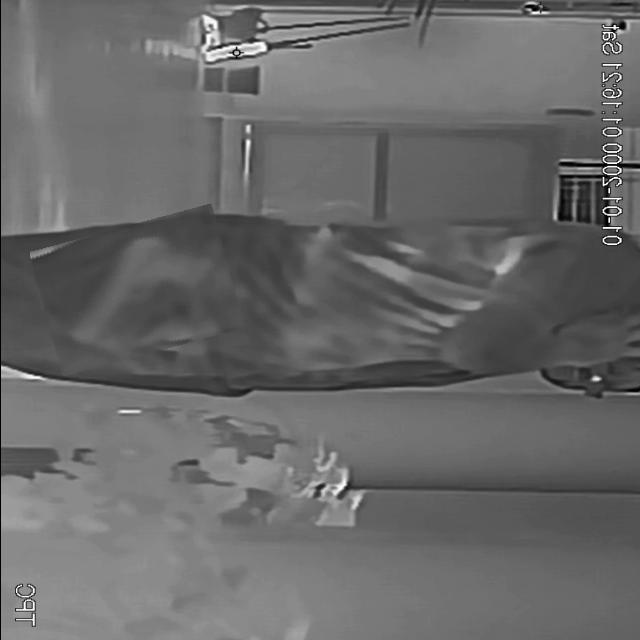Weapon: (36, 215, 238, 366)
